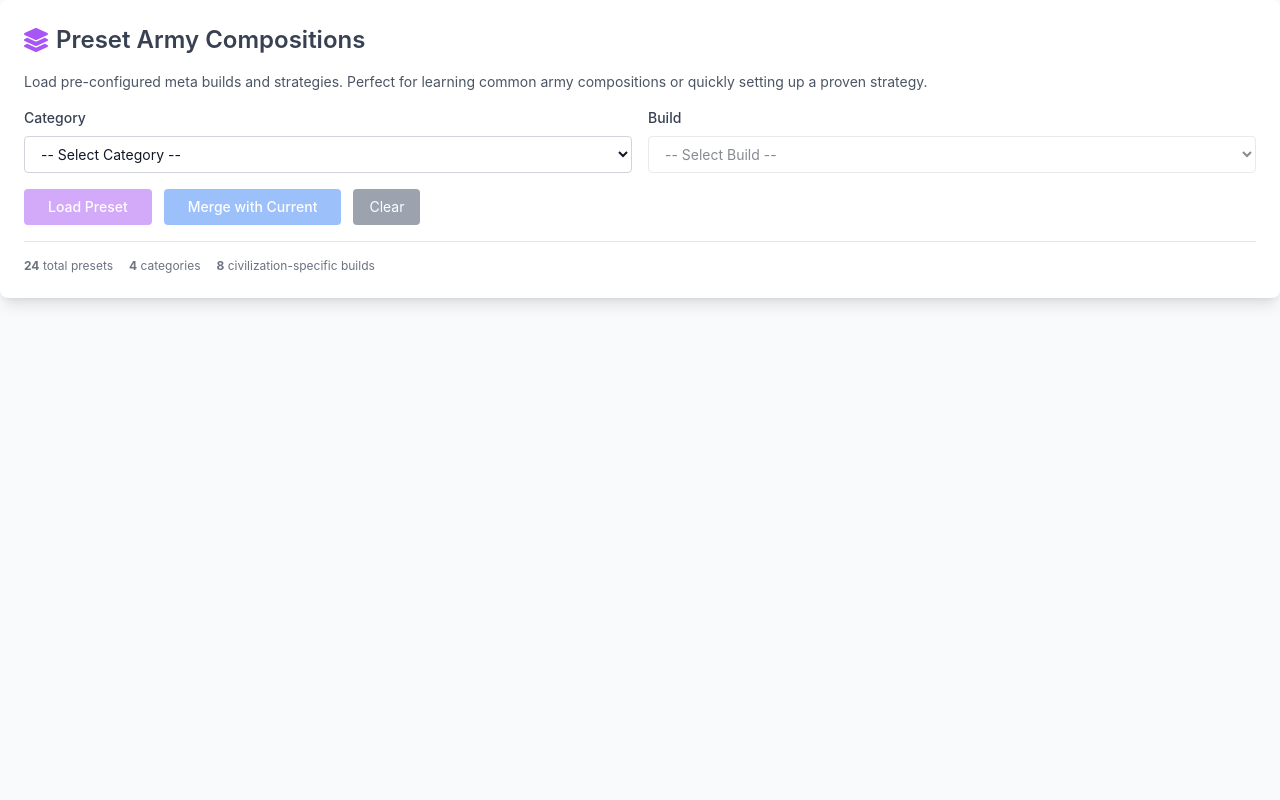
Test case: PresetSelector › loading presets › should show success message when preset is merged
Select "Beginner Templates" in the dropdown labelled "Category" at (328, 154), box [24,136,632,173]
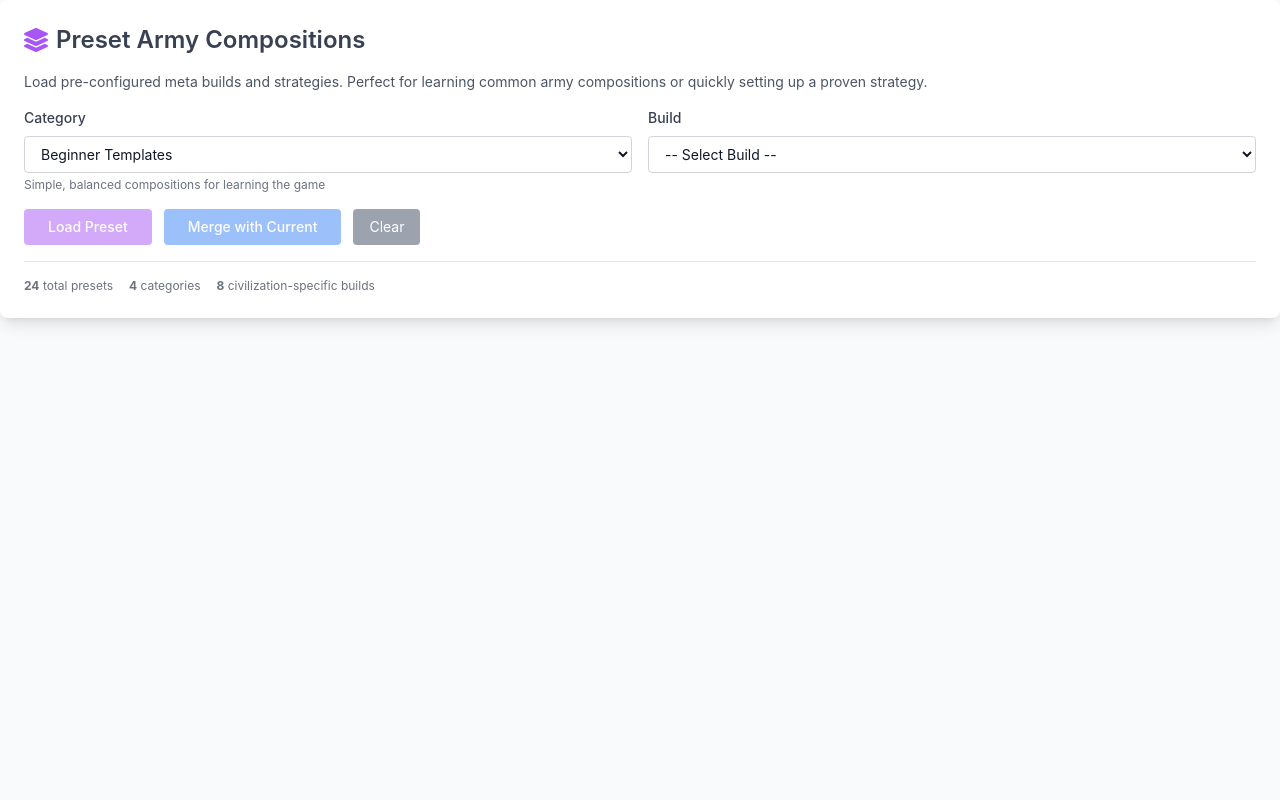
Select "Trash Army (No Gold)" in the dropdown labelled "Build" at (952, 154), box [648,136,1256,173]
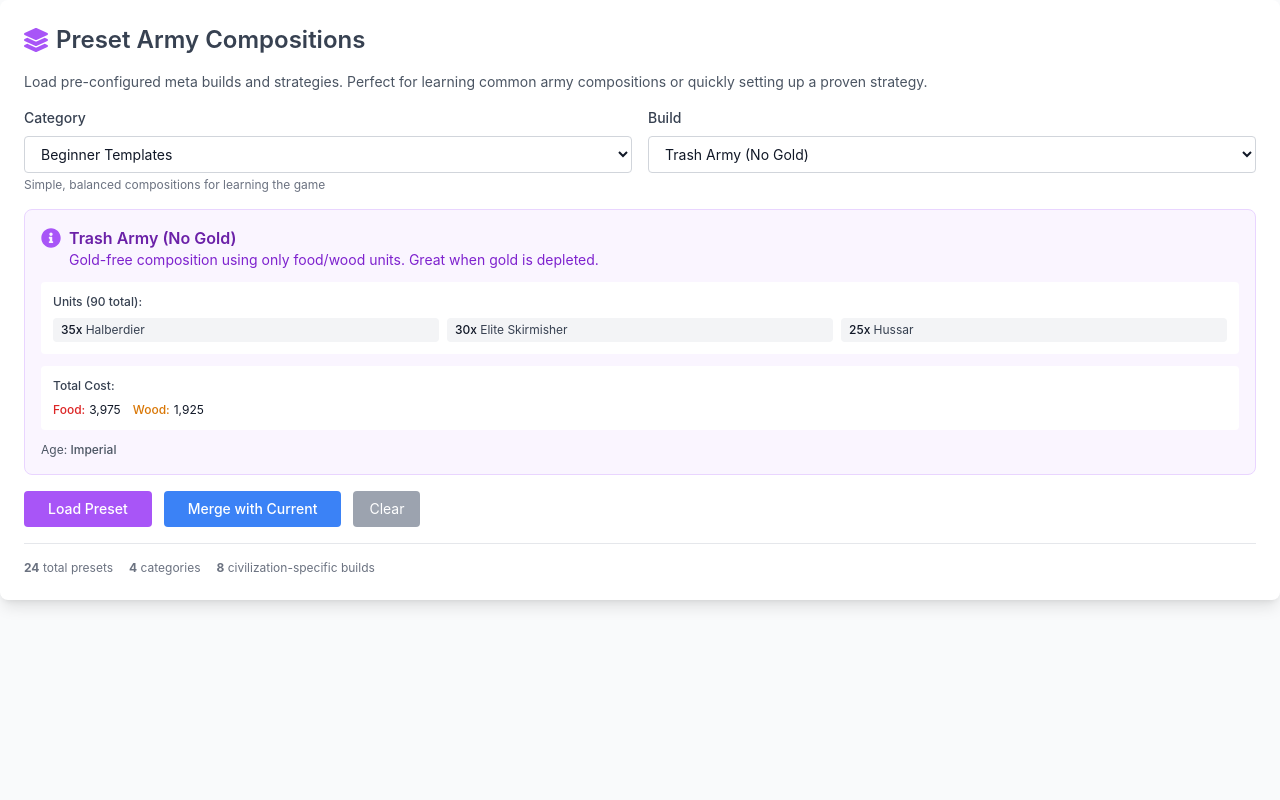
Click the button "Merge with Current".
click(253, 509)  # box [164,491,341,527]
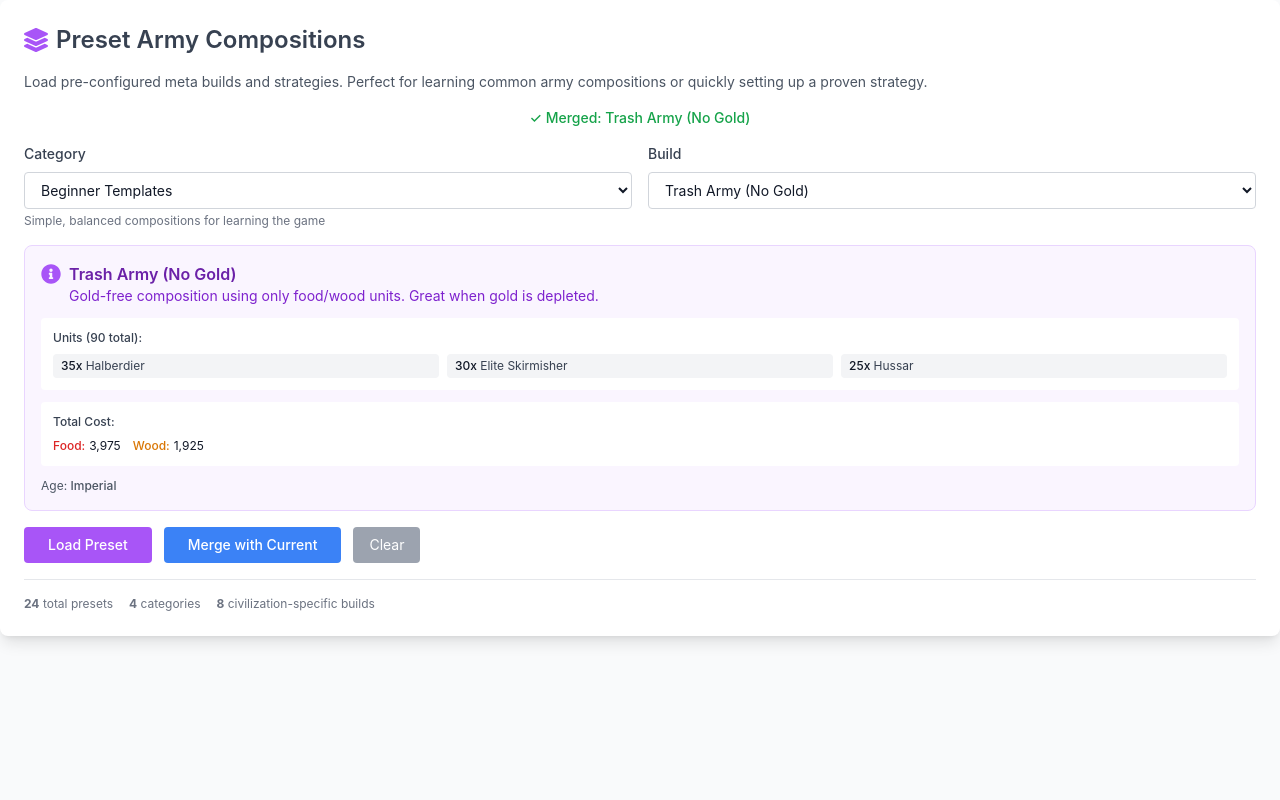
Now the text "✓ Merged: Trash Army (No Gold)" is shown, box [530,109,750,126]
